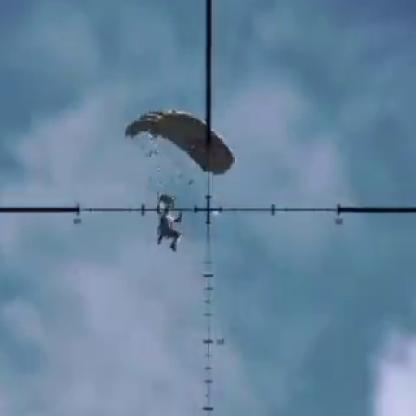enemy: (155, 196, 183, 252)
